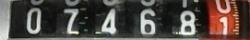digits: (212, 0, 233, 37), (178, 9, 198, 37), (62, 8, 82, 36), (139, 9, 157, 38), (101, 7, 118, 36), (26, 7, 41, 33)
